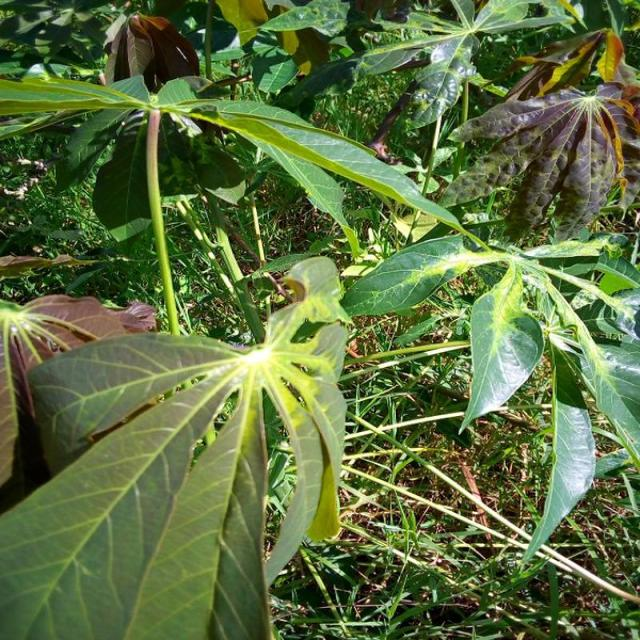cassava leaf: (1, 256, 350, 638), (457, 255, 545, 435)
